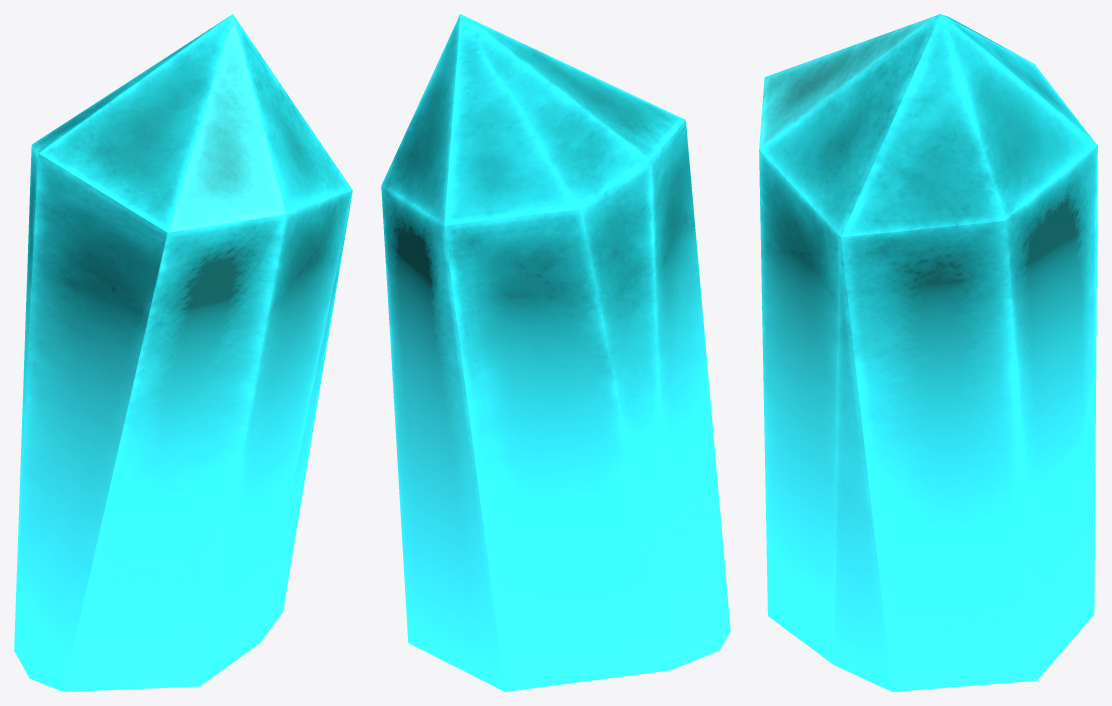
The model's file is crystal_piece_001.fbx.
The picture shows the model from 3 angles, left to right: view 1: azimuth 30°, elevation 25°; view 2: azimuth 150°, elevation 25°; view 3: azimuth 270°, elevation 25°; orthographic projection. The views are drawn at different scales.
Visible parts, largest first — view 1: crystal_piece_001; view 2: crystal_piece_001; view 3: crystal_piece_001.
Part boxes in pixels (x1,y1,x2,y2): crystal_piece_001: (14, 14, 352, 691); crystal_piece_001: (381, 14, 730, 691); crystal_piece_001: (759, 14, 1097, 691).
Size of the model in its own units: 0.8444 by 1.56 by 0.7236.
1 material, 1 textured.
